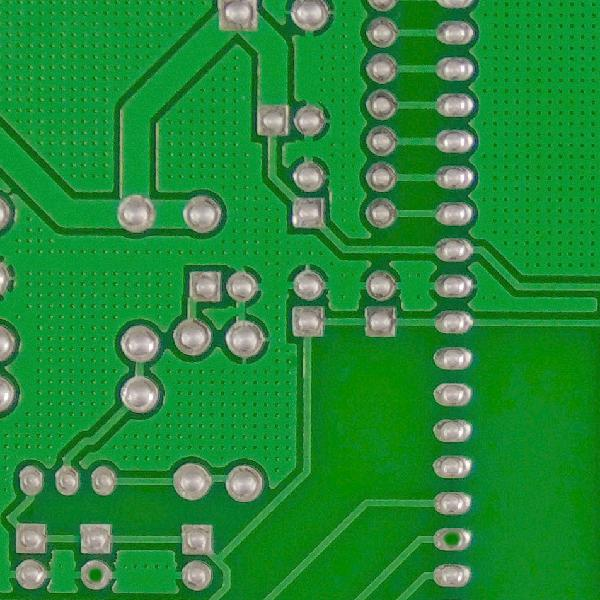missing_hole: (77, 558, 112, 590), (436, 527, 472, 558)
